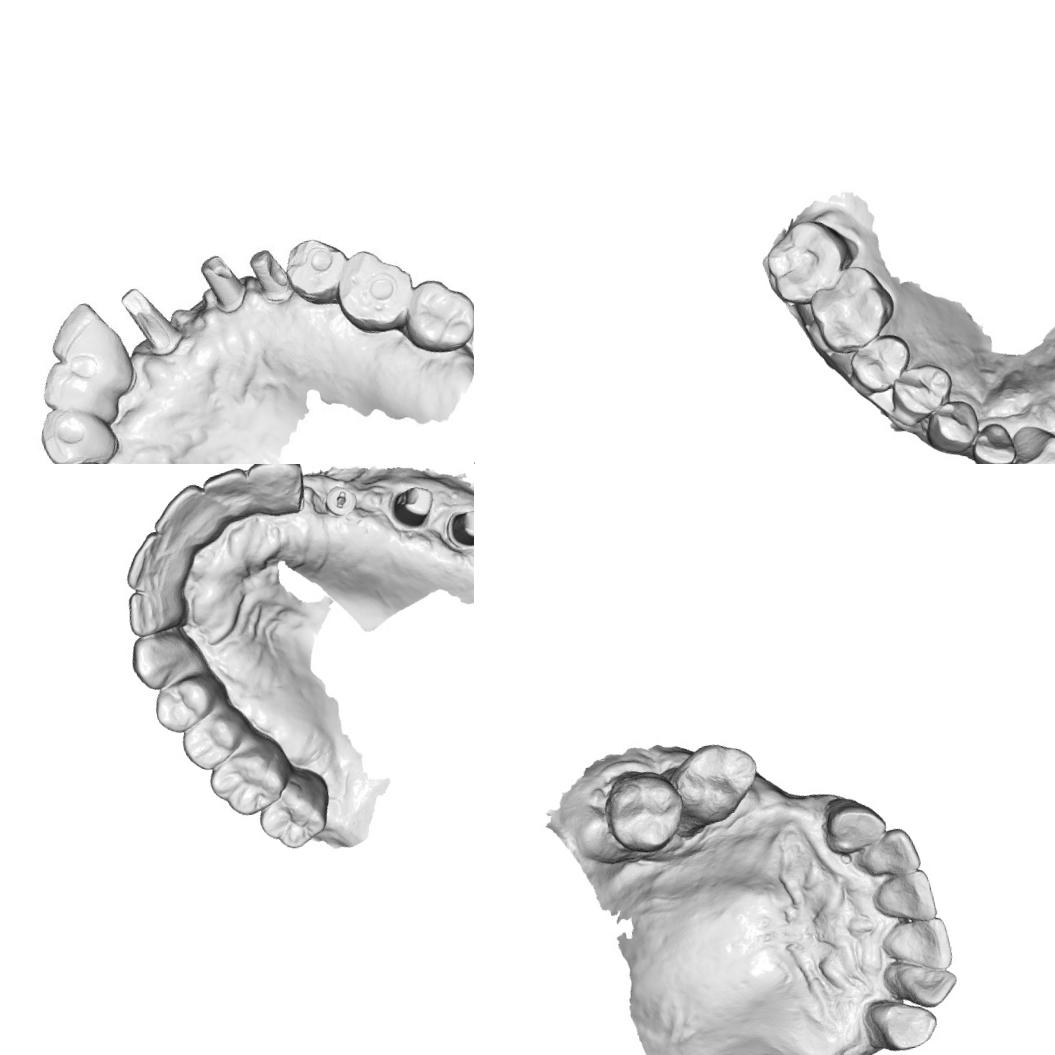abutment: (113, 269, 194, 365), (196, 245, 252, 317), (248, 240, 294, 316), (388, 480, 437, 528), (448, 503, 474, 552)
canine: (34, 395, 123, 464), (123, 622, 207, 693), (816, 788, 892, 859), (862, 989, 941, 1055), (919, 395, 983, 458), (241, 464, 309, 522)
implant_minus: (321, 480, 362, 520)
incisor: (44, 297, 126, 390), (36, 350, 121, 432), (880, 950, 962, 1016), (878, 913, 956, 980), (142, 477, 212, 545), (867, 866, 939, 929), (116, 582, 190, 640), (852, 823, 922, 883), (116, 526, 180, 590), (196, 464, 256, 525), (965, 416, 1020, 464), (1004, 417, 1055, 464)
molar: (657, 734, 768, 841), (755, 210, 860, 310), (800, 258, 902, 360), (595, 760, 692, 860), (334, 243, 418, 338), (202, 744, 294, 822), (396, 271, 474, 355), (252, 777, 331, 856)
premolar: (275, 229, 357, 309), (879, 356, 961, 428), (146, 672, 225, 738), (176, 708, 252, 776), (844, 328, 918, 396)
